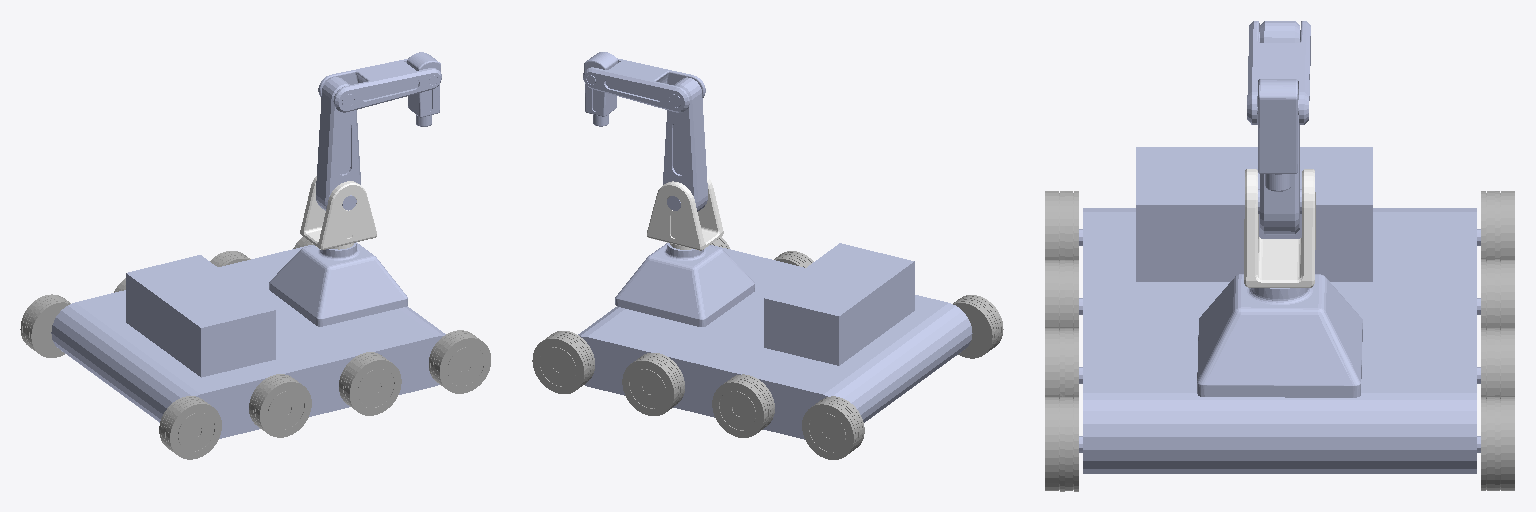
The robot description file, URDF, robot "Complete robot assembly":
<?xml version="1.0" encoding="utf-8"?>
<!-- This URDF was automatically created by SolidWorks to URDF Exporter! Originally created by [author] ([email redacted]) 
     Commit Version: 1.6.0-1-g15f4949  Build Version: 1.6.7594.29634
     For more information, please see http://wiki.ros.org/sw_urdf_exporter -->
<robot
  name="Complete robot assembly">
  <link
    name="base_link">
    <inertial>
      <origin
        xyz="-0.0188294056308936 -0.00424042114001039 0.0640742409147315"
        rpy="0 0 0" />
      <mass
        value="31.0320339728617" />
      <inertia
        ixx="0.565958898785793"
        ixy="-0.0151505883127099"
        ixz="0.0502324289297227"
        iyy="0.886935849980712"
        iyz="0.0113068755075638"
        izz="1.32772548603042" />
    </inertial>
    <visual>
      <origin
        xyz="0 0 0"
        rpy="0 0 0" />
      <geometry>
        <mesh
          filename="package://Complete robot assembly/meshes/base_link.STL" />
      </geometry>
      <material
        name="">
        <color
          rgba="0.792156862745098 0.819607843137255 0.933333333333333 1" />
      </material>
    </visual>
    <collision>
      <origin
        xyz="0 0 0"
        rpy="0 0 0" />
      <geometry>
        <mesh
          filename="package://Complete robot assembly/meshes/base_link.STL" />
      </geometry>
    </collision>
  </link>
  <link
    name="rwl_1">
    <inertial>
      <origin
        xyz="5.55111512312578E-17 -5.55111512312578E-17 -0.0198927841404511"
        rpy="0 0 0" />
      <mass
        value="0.365524552938848" />
      <inertia
        ixx="0.000322146824462348"
        ixy="6.94455175036538E-21"
        ixz="-1.62060443581093E-20"
        iyy="0.000322146824462347"
        iyz="-6.38651317241584E-21"
        izz="0.000549435522875278" />
    </inertial>
    <visual>
      <origin
        xyz="0 0 0"
        rpy="0 0 0" />
      <geometry>
        <mesh
          filename="package://Complete robot assembly/meshes/rwl_1.STL" />
      </geometry>
      <material
        name="">
        <color
          rgba="0.752941176470588 0.752941176470588 0.752941176470588 1" />
      </material>
    </visual>
    <collision>
      <origin
        xyz="0 0 0"
        rpy="0 0 0" />
      <geometry>
        <mesh
          filename="package://Complete robot assembly/meshes/rwl_1.STL" />
      </geometry>
    </collision>
  </link>
  <joint
    name="rwj_1"
    type="revolute">
    <origin
      xyz="0.285 -0.274 0.05"
      rpy="1.5708 0 0" />
    <parent
      link="base_link" />
    <child
      link="rwl_1" />
    <axis
      xyz="0 0 1" />
    <limit
      lower="-3.142"
      upper="3.142"
      effort="20"
      velocity="5" />
  </joint>
  <link
    name="lwl_1">
    <inertial>
      <origin
        xyz="-5.55111512312578E-17 5.55111512312578E-17 0.0188927841404509"
        rpy="0 0 0" />
      <mass
        value="0.365524552938848" />
      <inertia
        ixx="0.000322146824462347"
        ixy="-5.73184184814214E-20"
        ixz="-3.24825814810244E-20"
        iyy="0.000322146824462347"
        iyz="6.31204731408493E-20"
        izz="0.000549435522875277" />
    </inertial>
    <visual>
      <origin
        xyz="0 0 0"
        rpy="0 0 0" />
      <geometry>
        <mesh
          filename="package://Complete robot assembly/meshes/lwl_1.STL" />
      </geometry>
      <material
        name="">
        <color
          rgba="0.752941176470588 0.752941176470588 0.752941176470588 1" />
      </material>
    </visual>
    <collision>
      <origin
        xyz="0 0 0"
        rpy="0 0 0" />
      <geometry>
        <mesh
          filename="package://Complete robot assembly/meshes/lwl_1.STL" />
      </geometry>
    </collision>
  </link>
  <joint
    name="lwj_1"
    type="revolute">
    <origin
      xyz="0.285 0.273 0.05"
      rpy="1.5708 0 0" />
    <parent
      link="base_link" />
    <child
      link="lwl_1" />
    <axis
      xyz="0 0 -1" />
    <limit
      lower="-3.142"
      upper="3.142"
      effort="20"
      velocity="5" />
  </joint>
  <link
    name="rwl_2">
    <inertial>
      <origin
        xyz="0 0 -0.0198927841404509"
        rpy="0 0 0" />
      <mass
        value="0.365524552938848" />
      <inertia
        ixx="0.000322146824462348"
        ixy="1.00350174260766E-21"
        ixz="-1.52157732730887E-20"
        iyy="0.000322146824462347"
        iyz="-1.51133754492741E-22"
        izz="0.000549435522875279" />
    </inertial>
    <visual>
      <origin
        xyz="0 0 0"
        rpy="0 0 0" />
      <geometry>
        <mesh
          filename="package://Complete robot assembly/meshes/rwl_2.STL" />
      </geometry>
      <material
        name="">
        <color
          rgba="0.752941176470588 0.752941176470588 0.752941176470588 1" />
      </material>
    </visual>
    <collision>
      <origin
        xyz="0 0 0"
        rpy="0 0 0" />
      <geometry>
        <mesh
          filename="package://Complete robot assembly/meshes/rwl_2.STL" />
      </geometry>
    </collision>
  </link>
  <joint
    name="rwj_2"
    type="revolute">
    <origin
      xyz="0.095 -0.274 0.05"
      rpy="1.5708 0 0" />
    <parent
      link="base_link" />
    <child
      link="rwl_2" />
    <axis
      xyz="0 0 1" />
    <limit
      lower="-3.142"
      upper="3.142"
      effort="20"
      velocity="5" />
  </joint>
  <link
    name="lwl_2">
    <inertial>
      <origin
        xyz="-5.55111512312578E-17 2.22044604925031E-16 0.018892784140451"
        rpy="0 0 0" />
      <mass
        value="0.365524552938848" />
      <inertia
        ixx="0.000322146824462347"
        ixy="3.26071145712639E-20"
        ixz="-7.86015551258875E-20"
        iyy="0.000322146824462347"
        iyz="4.35420731922518E-20"
        izz="0.000549435522875278" />
    </inertial>
    <visual>
      <origin
        xyz="0 0 0"
        rpy="0 0 0" />
      <geometry>
        <mesh
          filename="package://Complete robot assembly/meshes/lwl_2.STL" />
      </geometry>
      <material
        name="">
        <color
          rgba="0.752941176470588 0.752941176470588 0.752941176470588 1" />
      </material>
    </visual>
    <collision>
      <origin
        xyz="0 0 0"
        rpy="0 0 0" />
      <geometry>
        <mesh
          filename="package://Complete robot assembly/meshes/lwl_2.STL" />
      </geometry>
    </collision>
  </link>
  <joint
    name="lwj_2"
    type="revolute">
    <origin
      xyz="0.095 0.273 0.05"
      rpy="1.5708 0 0" />
    <parent
      link="base_link" />
    <child
      link="lwl_2" />
    <axis
      xyz="0 0 -1" />
    <limit
      lower="-3.142"
      upper="3.142"
      effort="20"
      velocity="5" />
  </joint>
  <link
    name="rwl_3">
    <inertial>
      <origin
        xyz="6.93889390390723E-18 -5.55111512312578E-17 -0.0198927841404509"
        rpy="0 0 0" />
      <mass
        value="0.365524552938848" />
      <inertia
        ixx="0.000322146824462348"
        ixy="-5.32815574584769E-22"
        ixz="-1.42399533716662E-20"
        iyy="0.000322146824462348"
        iyz="-6.91296284916595E-23"
        izz="0.000549435522875279" />
    </inertial>
    <visual>
      <origin
        xyz="0 0 0"
        rpy="0 0 0" />
      <geometry>
        <mesh
          filename="package://Complete robot assembly/meshes/rwl_3.STL" />
      </geometry>
      <material
        name="">
        <color
          rgba="0.752941176470588 0.752941176470588 0.752941176470588 1" />
      </material>
    </visual>
    <collision>
      <origin
        xyz="0 0 0"
        rpy="0 0 0" />
      <geometry>
        <mesh
          filename="package://Complete robot assembly/meshes/rwl_3.STL" />
      </geometry>
    </collision>
  </link>
  <joint
    name="rwj_3"
    type="revolute">
    <origin
      xyz="-0.095 -0.274 0.05"
      rpy="1.5708 0 0" />
    <parent
      link="base_link" />
    <child
      link="rwl_3" />
    <axis
      xyz="0 0 1" />
    <limit
      lower="-3.142"
      upper="3.142"
      effort="20"
      velocity="5" />
  </joint>
  <link
    name="lwl_3">
    <inertial>
      <origin
        xyz="-7.63278329429795E-17 3.33066907387547E-16 0.0188927841404511"
        rpy="0 0 0" />
      <mass
        value="0.365524552938848" />
      <inertia
        ixx="0.000322146824462347"
        ixy="-7.91650120549509E-21"
        ixz="-2.58505517034389E-20"
        iyy="0.000322146824462347"
        iyz="4.64293841318337E-20"
        izz="0.000549435522875278" />
    </inertial>
    <visual>
      <origin
        xyz="0 0 0"
        rpy="0 0 0" />
      <geometry>
        <mesh
          filename="package://Complete robot assembly/meshes/lwl_3.STL" />
      </geometry>
      <material
        name="">
        <color
          rgba="0.752941176470588 0.752941176470588 0.752941176470588 1" />
      </material>
    </visual>
    <collision>
      <origin
        xyz="0 0 0"
        rpy="0 0 0" />
      <geometry>
        <mesh
          filename="package://Complete robot assembly/meshes/lwl_3.STL" />
      </geometry>
    </collision>
  </link>
  <joint
    name="lwj_3"
    type="revolute">
    <origin
      xyz="-0.095 0.273 0.05"
      rpy="1.5708 0 0" />
    <parent
      link="base_link" />
    <child
      link="lwl_3" />
    <axis
      xyz="0 0 -1" />
    <limit
      lower="-3.142"
      upper="3.142"
      effort="20"
      velocity="5" />
  </joint>
  <link
    name="rwl_4">
    <inertial>
      <origin
        xyz="2.77555756156289E-17 -5.55111512312578E-17 -0.0198927841404509"
        rpy="0 0 0" />
      <mass
        value="0.365524552938848" />
      <inertia
        ixx="0.000322146824462347"
        ixy="-1.03263021856155E-20"
        ixz="1.57330636054214E-20"
        iyy="0.000322146824462347"
        iyz="2.16261979598084E-20"
        izz="0.000549435522875278" />
    </inertial>
    <visual>
      <origin
        xyz="0 0 0"
        rpy="0 0 0" />
      <geometry>
        <mesh
          filename="package://Complete robot assembly/meshes/rwl_4.STL" />
      </geometry>
      <material
        name="">
        <color
          rgba="0.752941176470588 0.752941176470588 0.752941176470588 1" />
      </material>
    </visual>
    <collision>
      <origin
        xyz="0 0 0"
        rpy="0 0 0" />
      <geometry>
        <mesh
          filename="package://Complete robot assembly/meshes/rwl_4.STL" />
      </geometry>
    </collision>
  </link>
  <joint
    name="rwj_4"
    type="revolute">
    <origin
      xyz="-0.285 -0.274 0.05"
      rpy="1.5708 0 0" />
    <parent
      link="base_link" />
    <child
      link="rwl_4" />
    <axis
      xyz="0 0 1" />
    <limit
      lower="-3.142"
      upper="3.142"
      effort="20"
      velocity="5" />
  </joint>
  <link
    name="lwl_4">
    <inertial>
      <origin
        xyz="-1.66533453693773E-16 2.22044604925031E-16 0.0188927841404509"
        rpy="0 0 0" />
      <mass
        value="0.365524552938848" />
      <inertia
        ixx="0.000322146824462347"
        ixy="2.26741193616589E-20"
        ixz="-1.07052380229241E-20"
        iyy="0.000322146824462347"
        iyz="5.78050288249638E-20"
        izz="0.000549435522875278" />
    </inertial>
    <visual>
      <origin
        xyz="0 0 0"
        rpy="0 0 0" />
      <geometry>
        <mesh
          filename="package://Complete robot assembly/meshes/lwl_4.STL" />
      </geometry>
      <material
        name="">
        <color
          rgba="0.752941176470588 0.752941176470588 0.752941176470588 1" />
      </material>
    </visual>
    <collision>
      <origin
        xyz="0 0 0"
        rpy="0 0 0" />
      <geometry>
        <mesh
          filename="package://Complete robot assembly/meshes/lwl_4.STL" />
      </geometry>
    </collision>
  </link>
  <joint
    name="lwj_4"
    type="revolute">
    <origin
      xyz="-0.285 0.273 0.05"
      rpy="1.5708 0 0" />
    <parent
      link="base_link" />
    <child
      link="lwl_4" />
    <axis
      xyz="0 0 -1" />
    <limit
      lower="-3.142"
      upper="3.142"
      effort="20"
      velocity="5" />
  </joint>
  <link
    name="robotichandbase_Link">
    <inertial>
      <origin
        xyz="0.46 0.091437 0.273"
        rpy="0 0 0" />
      <mass
        value="2.3006" />
      <inertia
        ixx="0.0067545"
        ixy="4.8266E-19"
        ixz="2.3796E-11"
        iyy="0.010395"
        iyz="2.4939E-18"
        izz="0.0067545" />
    </inertial>
    <visual>
      <origin
        xyz="0 0 0"
        rpy="0 0 0" />
      <geometry>
        <mesh
          filename="package://Complete robot assembly/meshes/robotichandbase_Link.STL" />
      </geometry>
      <material
        name="">
        <color
          rgba="0.79216 0.81961 0.93333 1" />
      </material>
    </visual>
    <collision>
      <origin
        xyz="0 0 0"
        rpy="0 0 0" />
      <geometry>
        <mesh
          filename="package://Complete robot assembly/meshes/robotichandbase_Link.STL" />
      </geometry>
    </collision>
  </link>
  <joint
    name="rhb_joint"
    type="revolute">
    <origin
      xyz="-0.285 0.273 0.05"
      rpy="1.5708 0 0" />
    <parent
      link="base_link" />
    <child
      link="robotichandbase_Link" />
    <axis
      xyz="0 1 0" />
    <limit
      lower="-3.142"
      upper="3.142"
      effort="30"
      velocity="2" />
  </joint>
  <link
    name="rhl_1">
    <inertial>
      <origin
        xyz="0.46 0.21256 0.273"
        rpy="0 0 0" />
      <mass
        value="0.41479" />
      <inertia
        ixx="0.00092541"
        ixy="2.9175E-15"
        ixz="3.7192E-07"
        iyy="0.00069074"
        iyz="-2.6224E-13"
        izz="0.00089326" />
    </inertial>
    <visual>
      <origin
        xyz="0 0 0"
        rpy="0 0 0" />
      <geometry>
        <mesh
          filename="package://Complete robot assembly/meshes/rhl_1.STL" />
      </geometry>
      <material
        name="">
        <color
          rgba="1 1 1 1" />
      </material>
    </visual>
    <collision>
      <origin
        xyz="0 0 0"
        rpy="0 0 0" />
      <geometry>
        <mesh
          filename="package://Complete robot assembly/meshes/rhl_1.STL" />
      </geometry>
    </collision>
  </link>
  <joint
    name="rhj_1"
    type="revolute">
    <origin
      xyz="0 0 0"
      rpy="0 0 0" />
    <parent
      link="robotichandbase_Link" />
    <child
      link="rhl_1" />
    <axis
      xyz="0 1 0" />
    <limit
      lower="-1.157"
      upper="1.157"
      effort="20"
      velocity="2" />
  </joint>
  <link
    name="rhl_2">
    <inertial>
      <origin
        xyz="0.46 0.34673 0.273"
        rpy="0 0 0" />
      <mass
        value="0.74983" />
      <inertia
        ixx="0.0044446"
        ixy="-8.4643E-20"
        ixz="-1.1357E-06"
        iyy="0.00040113"
        iyz="-7.1598E-20"
        izz="0.0045428" />
    </inertial>
    <visual>
      <origin
        xyz="0 0 0"
        rpy="0 0 0" />
      <geometry>
        <mesh
          filename="package://Complete robot assembly/meshes/rhl_2.STL" />
      </geometry>
      <material
        name="">
        <color
          rgba="0.79216 0.81961 0.93333 1" />
      </material>
    </visual>
    <collision>
      <origin
        xyz="0 0 0"
        rpy="0 0 0" />
      <geometry>
        <mesh
          filename="package://Complete robot assembly/meshes/rhl_2.STL" />
      </geometry>
    </collision>
  </link>
  <joint
    name="rhj_2"
    type="revolute">
    <origin
      xyz="0 0 0"
      rpy="0 0 0" />
    <parent
      link="rhl_1" />
    <child
      link="rhl_2" />
    <axis
      xyz="-0.011568 0 0.99993" />
    <limit
      lower="-1.157"
      upper="1.157"
      effort="20"
      velocity="2" />
  </joint>
  <link
    name="rhl_3">
    <inertial>
      <origin
        xyz="0.55161 0.46576 0.27406"
        rpy="0 0 0" />
      <mass
        value="0.37933" />
      <inertia
        ixx="0.00026059"
        ixy="-1.4138E-13"
        ixz="-7.2136E-06"
        iyy="0.0010046"
        iyz="1.2221E-11"
        izz="0.00088403" />
    </inertial>
    <visual>
      <origin
        xyz="0 0 0"
        rpy="0 0 0" />
      <geometry>
        <mesh
          filename="package://Complete robot assembly/meshes/rhl_3.STL" />
      </geometry>
      <material
        name="">
        <color
          rgba="0.79216 0.81961 0.93333 1" />
      </material>
    </visual>
    <collision>
      <origin
        xyz="0 0 0"
        rpy="0 0 0" />
      <geometry>
        <mesh
          filename="package://Complete robot assembly/meshes/rhl_3.STL" />
      </geometry>
    </collision>
  </link>
  <joint
    name="rhj_3"
    type="revolute">
    <origin
      xyz="0 0 0"
      rpy="0 0 0" />
    <parent
      link="rhl_2" />
    <child
      link="rhl_3" />
    <axis
      xyz="-0.011568 0 0.99993" />
    <limit
      lower="-1.157"
      upper="1.157"
      effort="20"
      velocity="2" />
  </joint>
  <link
    name="rhl_4">
    <inertial>
      <origin
        xyz="0.63919 0.4393 0.27507"
        rpy="0 0 0" />
      <mass
        value="0.2429" />
      <inertia
        ixx="0.00033813"
        ixy="2.63E-19"
        ixz="8.9316E-08"
        iyy="8.1317E-05"
        iyz="-3.285E-20"
        izz="0.00033041" />
    </inertial>
    <visual>
      <origin
        xyz="0 0 0"
        rpy="0 0 0" />
      <geometry>
        <mesh
          filename="package://Complete robot assembly/meshes/rhl_4.STL" />
      </geometry>
      <material
        name="">
        <color
          rgba="0.79216 0.81961 0.93333 1" />
      </material>
    </visual>
    <collision>
      <origin
        xyz="0 0 0"
        rpy="0 0 0" />
      <geometry>
        <mesh
          filename="package://Complete robot assembly/meshes/rhl_4.STL" />
      </geometry>
    </collision>
  </link>
  <joint
    name="rhj_4"
    type="revolute">
    <origin
      xyz="0 0 0"
      rpy="0 0 0" />
    <parent
      link="rhl_3" />
    <child
      link="rhl_4" />
    <axis
      xyz="-0.011568 0 0.99993" />
    <limit
      lower="0"
      upper="3.142"
      effort="10"
      velocity="2" />
  </joint>
</robot>

--- What the picture shows (computed from the rendered views, not written in the file) ---
Views: 3 orthographic renders of the robot side by side, from view 1: azimuth 30°, elevation 25°; view 2: azimuth 150°, elevation 25°; view 3: azimuth 270°, elevation 25°.
Robot: Complete robot assembly — 14 links, 13 joints (13 revolute); root link base_link; default pose: every joint at zero.
Links seen in each view (by area): view 1: base_link, robotichandbase_Link, rhl_2, rhl_1, rhl_3, rwl_3, rwl_4, rwl_2, rwl_1, lwl_4, rhl_4; view 2: base_link, robotichandbase_Link, rhl_2, rhl_1, rhl_3, lwl_2, lwl_4, lwl_3, lwl_1, rwl_4, rhl_4; view 3: base_link, robotichandbase_Link, rhl_1, rhl_4, rhl_3, rwl_1, lwl_1, rhl_2, rwl_2, lwl_2, rwl_4, lwl_4 (+2 smaller).
Boxes of the visible links, left/top/right/bottom form: base_link: left=51, top=245, right=445, bottom=438; robotichandbase_Link: left=269, top=242, right=407, bottom=326; rhl_2: left=316, top=77, right=360, bottom=210; rhl_1: left=300, top=176, right=376, bottom=249; rhl_3: left=318, top=59, right=441, bottom=112; rwl_3: left=249, top=374, right=311, bottom=437; rwl_4: left=159, top=396, right=221, bottom=459; rwl_2: left=339, top=352, right=401, bottom=415; rwl_1: left=429, top=330, right=490, bottom=393; lwl_4: left=20, top=294, right=70, bottom=357; rhl_4: left=407, top=52, right=440, bottom=126; base_link: left=578, top=243, right=972, bottom=439; robotichandbase_Link: left=615, top=243, right=754, bottom=326; rhl_2: left=663, top=77, right=707, bottom=211; rhl_1: left=647, top=176, right=723, bottom=250; rhl_3: left=583, top=58, right=705, bottom=112; lwl_2: left=622, top=353, right=684, bottom=415; lwl_4: left=802, top=396, right=864, bottom=459; lwl_3: left=712, top=374, right=774, bottom=437; lwl_1: left=532, top=331, right=594, bottom=393; rwl_4: left=953, top=295, right=1003, bottom=358; rhl_4: left=584, top=52, right=617, bottom=126; base_link: left=1079, top=147, right=1480, bottom=473; robotichandbase_Link: left=1197, top=274, right=1362, bottom=397; rhl_1: left=1244, top=169, right=1315, bottom=287; rhl_4: left=1257, top=79, right=1298, bottom=191; rhl_3: left=1247, top=21, right=1310, bottom=124; rwl_1: left=1045, top=397, right=1078, bottom=491; lwl_1: left=1481, top=397, right=1514, bottom=490; rhl_2: left=1258, top=21, right=1301, bottom=234; rwl_2: left=1045, top=328, right=1078, bottom=398; lwl_2: left=1481, top=328, right=1514, bottom=398; rwl_4: left=1045, top=191, right=1078, bottom=260; lwl_4: left=1481, top=191, right=1514, bottom=260.
Bounding box of the posed robot: 0.7181 × 0.548 × 0.554 m (x, y, z).
Meshes: 14 distinct files referenced, 14 mesh visuals loaded (14 binary STL).
